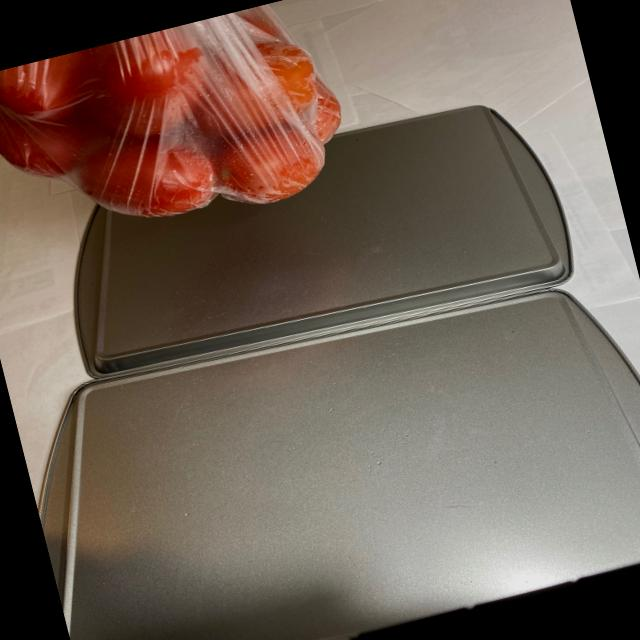tomato: (0, 0, 359, 269)
